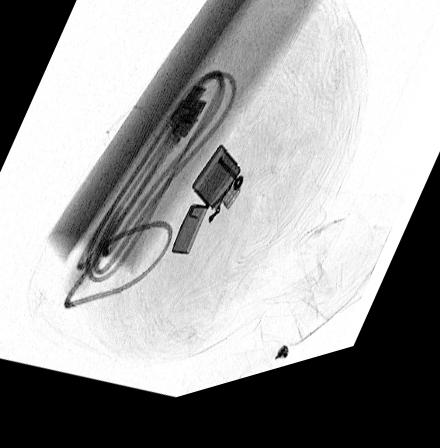Lighter: (170, 156, 245, 265)
